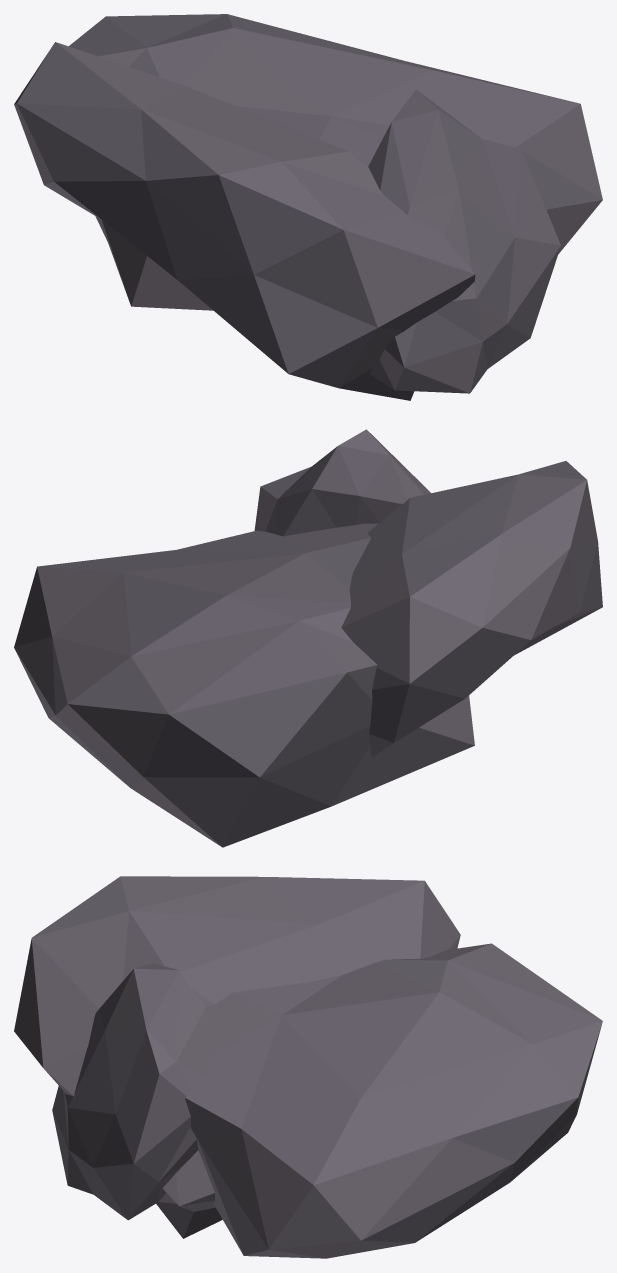
The model's file is Stone.fbx.
The picture shows the model from 3 angles, top to bottom: view 1: azimuth 30°, elevation 25°; view 2: azimuth 150°, elevation 25°; view 3: azimuth 270°, elevation 25°; orthographic projection. The views are drawn at different scales.
Visible parts, largest first — view 1: Icosphere; view 2: Icosphere; view 3: Icosphere.
Boxes of the visible parts, bbox=[...] form: Icosphere: bbox=[14, 14, 602, 400]; Icosphere: bbox=[14, 429, 602, 847]; Icosphere: bbox=[14, 876, 602, 1258].
Size of the model in its own units: 317 by 180 by 355.
